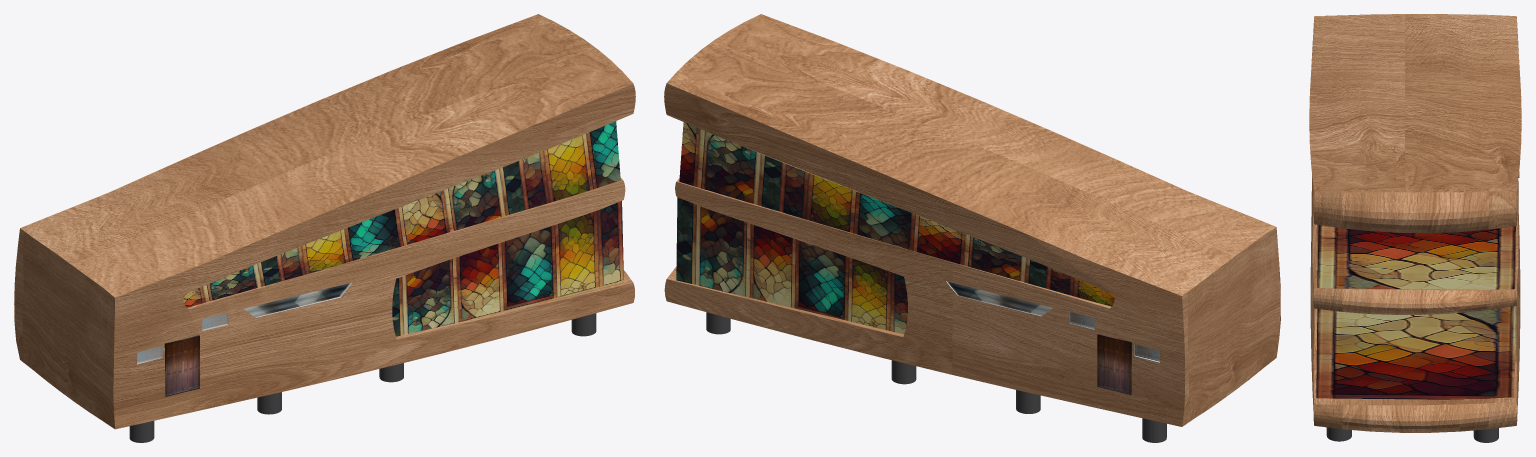
Rendered from Tiny-House-01.glb.
3 renders of one model, left to right at view 1: azimuth 30°, elevation 25°; view 2: azimuth 150°, elevation 25°; view 3: azimuth 270°, elevation 25°, orthographic. The views are drawn at different scales.
Parts seen in each view (by area): view 1: Cube, Cube.004, Cube.005, Cube.011, Cube.001; view 2: Cube, Cube.004, Cube.005, Cube.012, Cube.006; view 3: Cube, Cube.005, Cube.004, Cylinder.001, Cylinder.
Part boxes in pixels (box(x1,y1,x2,y2)): Cube: box(14, 14, 635, 429); Cube.004: box(183, 121, 620, 307); Cube.005: box(319, 201, 623, 336); Cube.011: box(164, 335, 199, 396); Cube.001: box(244, 283, 350, 317); Cube: box(664, 14, 1280, 426); Cube.004: box(679, 122, 1114, 306); Cube.005: box(676, 197, 977, 334); Cube.012: box(1097, 334, 1131, 394); Cube.006: box(947, 281, 1052, 315); Cube: box(1309, 14, 1521, 432); Cube.005: box(1316, 306, 1515, 399); Cube.004: box(1317, 225, 1515, 289); Cylinder.001: box(1473, 428, 1498, 442); Cylinder: box(1326, 427, 1351, 441).
Size of the model in its own units: 8.59 by 3.86 by 2.74.
Materials: 5 (4 with a texture image).
